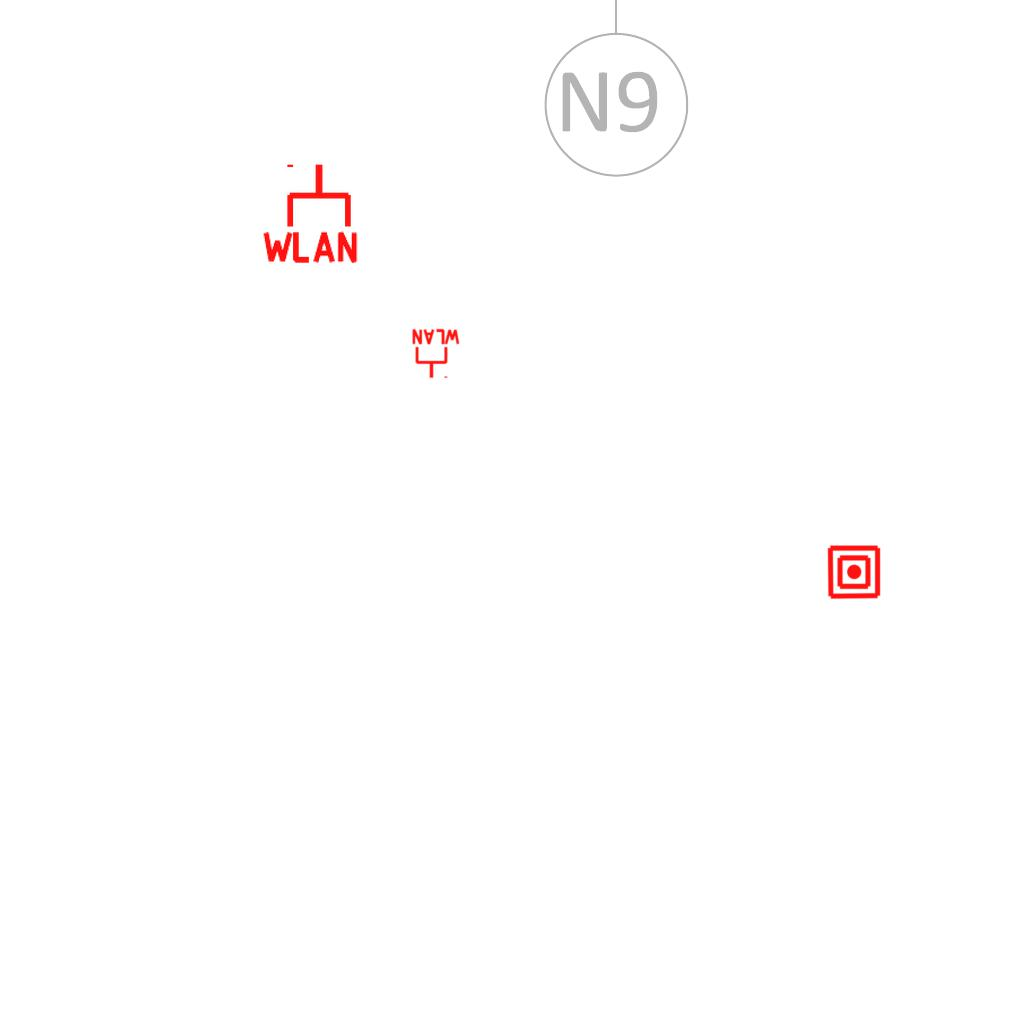NAM-Nichtautomatischer_Melder: (826, 544, 882, 600)
WLAN: (258, 160, 362, 265), (410, 328, 462, 380)
